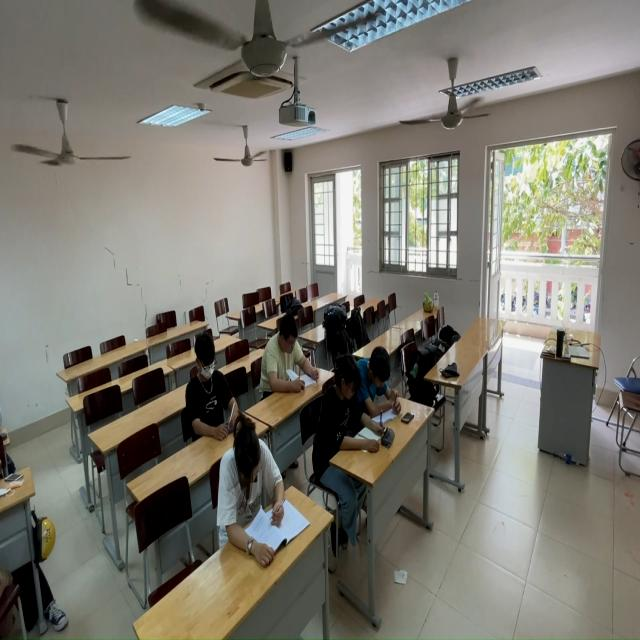read: (216, 407, 304, 563), (315, 354, 386, 460), (184, 334, 243, 437), (354, 336, 415, 422), (259, 312, 321, 396)
